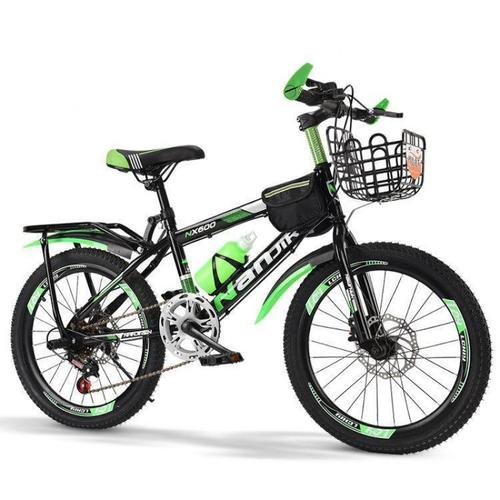单车: (8, 57, 496, 467)
